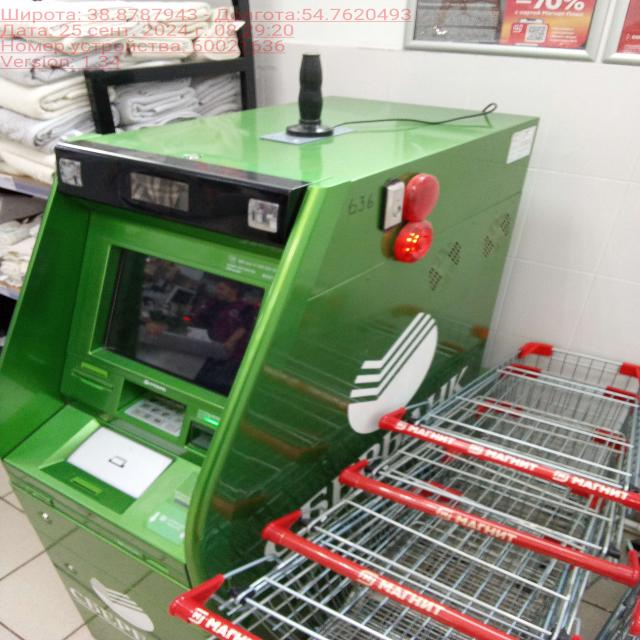bank: (0, 91, 543, 640)
